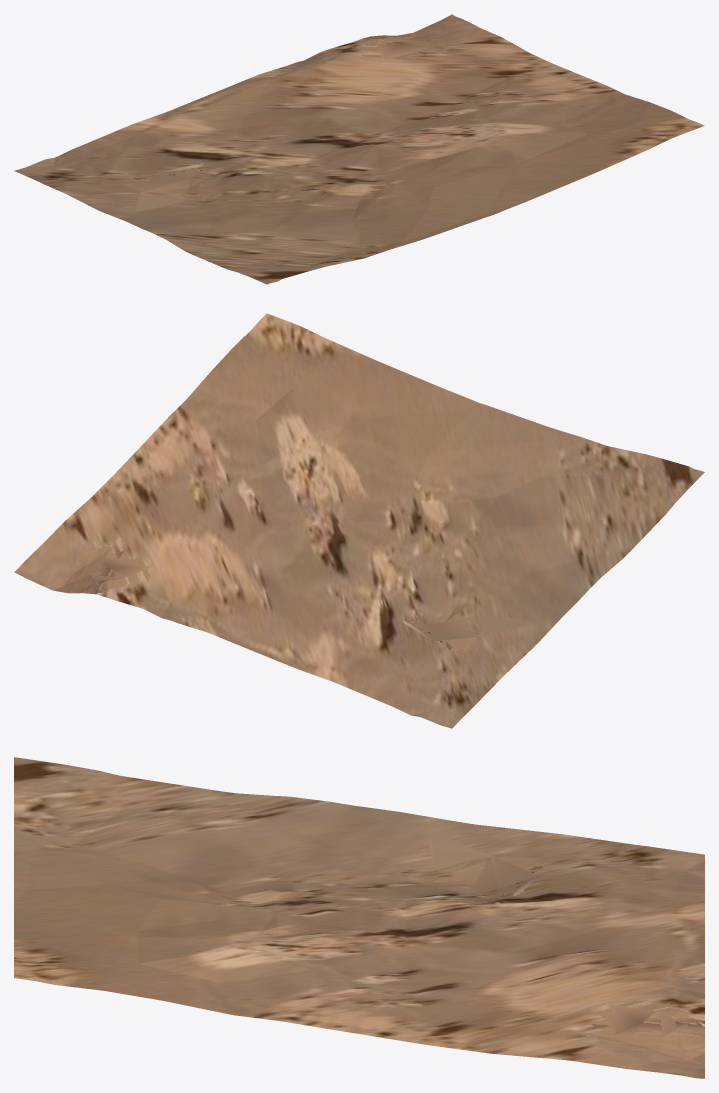
3 views of the same model, one above another, from view 1: azimuth 30°, elevation 25°; view 2: azimuth 150°, elevation 25°; view 3: azimuth 270°, elevation 25° (orthographic). The views are drawn at different scales.
Bounding box in the file's own units: 1.04 × 0.2811 × 1.04.
2 materials, 2 textured.
